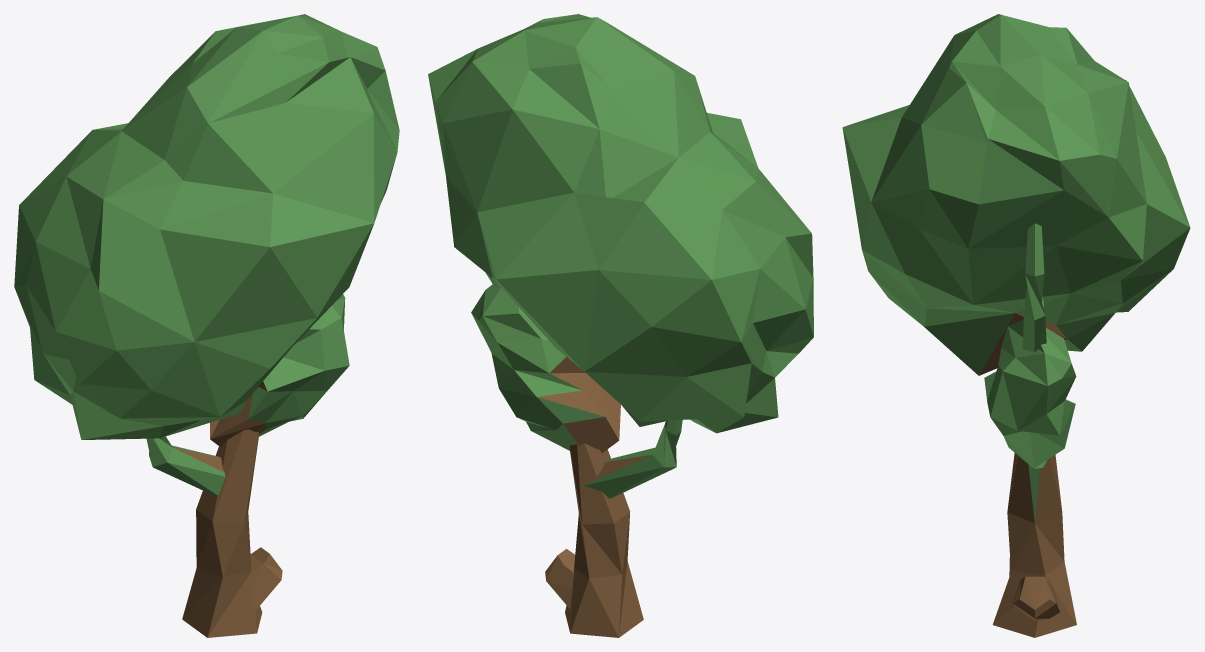
The model's file is tree3d-137.glb.
The picture shows the model from 3 angles, left to right: view 1: azimuth 30°, elevation 25°; view 2: azimuth 150°, elevation 25°; view 3: azimuth 270°, elevation 25°; orthographic projection. The views are drawn at different scales.
Parts seen in each view (by area): view 1: tree3d-137; view 2: tree3d-137; view 3: tree3d-137.
Boxes of the visible parts, box(x1,y1,x2,y2) form: tree3d-137: box(14, 14, 399, 637); tree3d-137: box(428, 14, 813, 637); tree3d-137: box(842, 14, 1190, 637).
Size of the model in its own units: 0.6179 by 1 by 0.5127.
